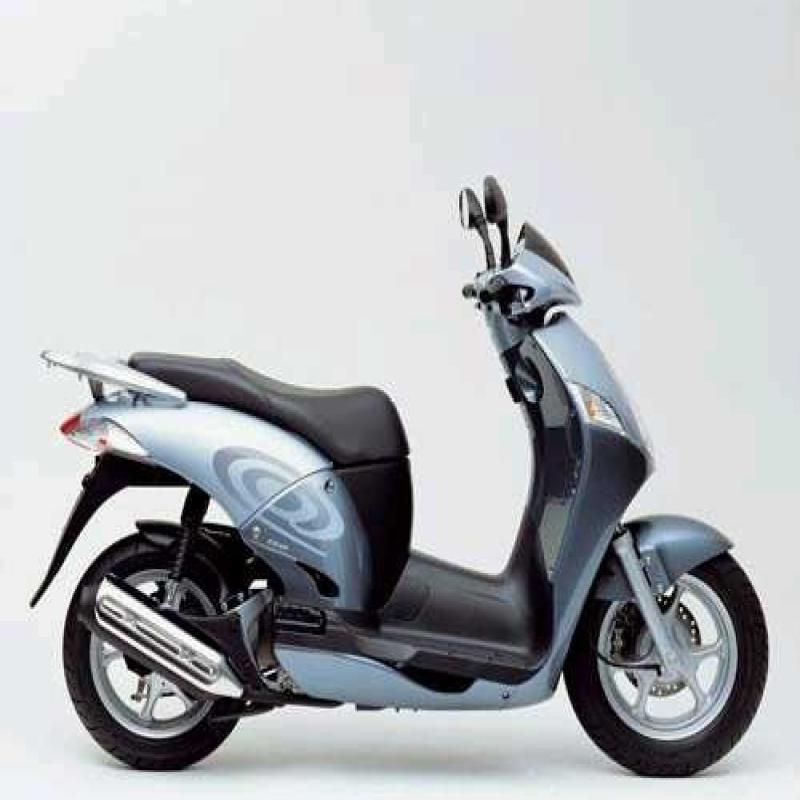bike: (0, 189, 798, 800)
